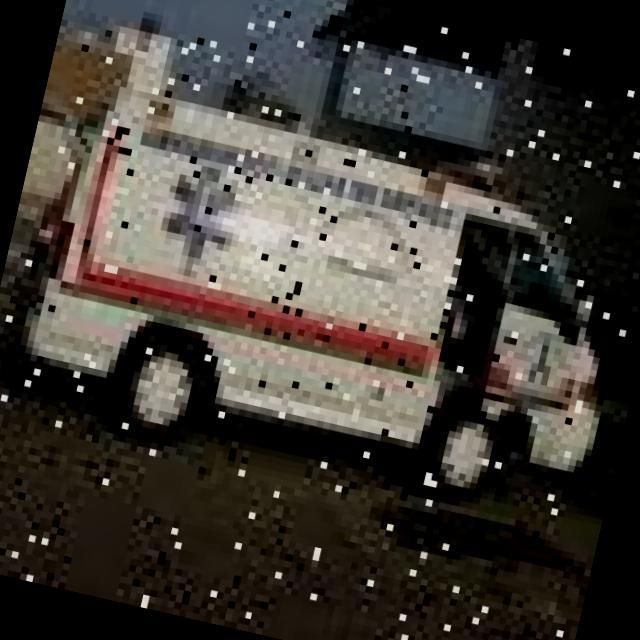emergency-vehicle: (9, 51, 640, 519)
